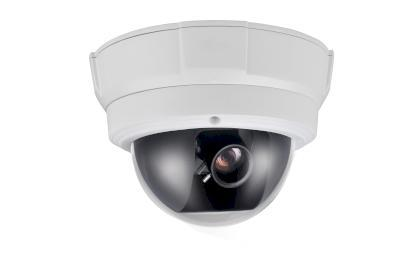maru: (87, 18, 335, 229)
